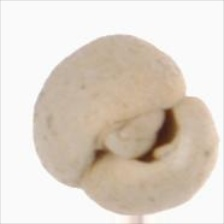L3: (86, 104, 182, 164)
L4: (33, 34, 218, 215)
